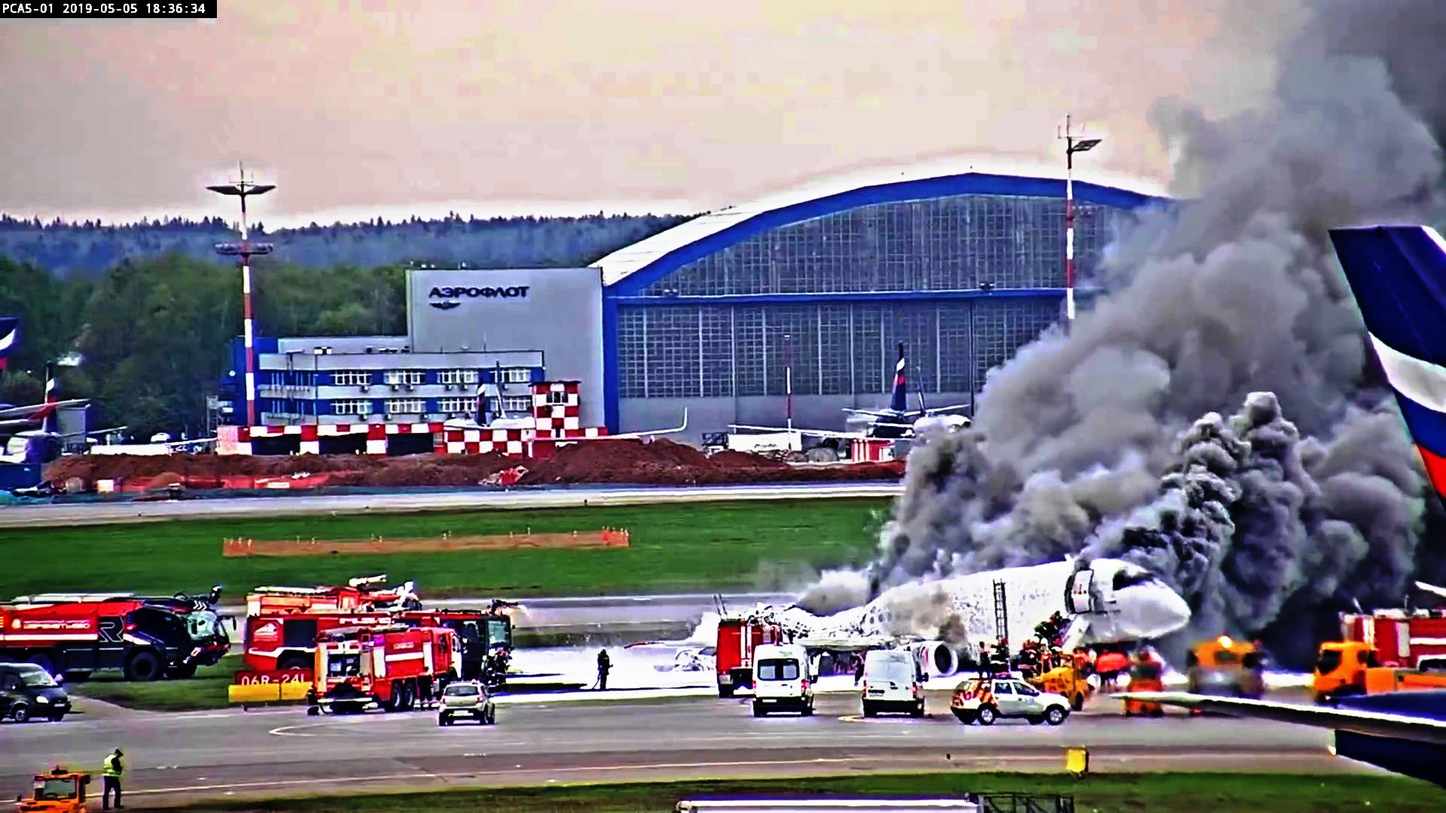smoke: (1151, 194, 1341, 410), (991, 322, 1159, 560), (1283, 0, 1446, 211), (1158, 369, 1311, 574), (885, 420, 998, 578)
